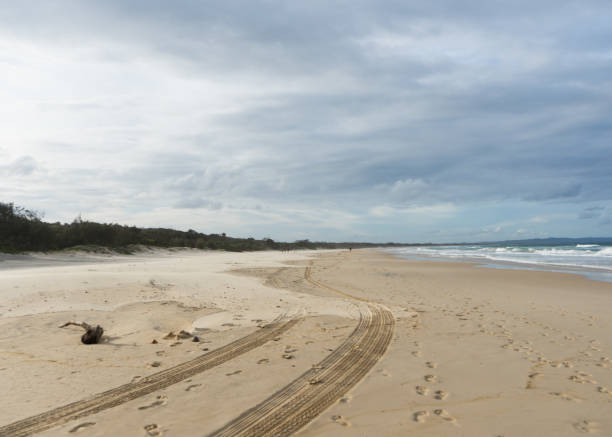vehicle_track: (0, 318, 298, 436), (211, 304, 393, 436)
